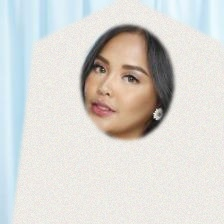Mukena: (15, 0, 224, 223)
